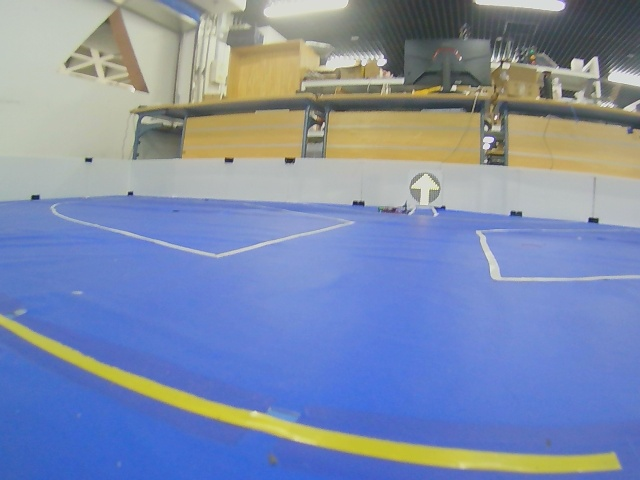straight_yellow: (410, 173, 440, 206)
